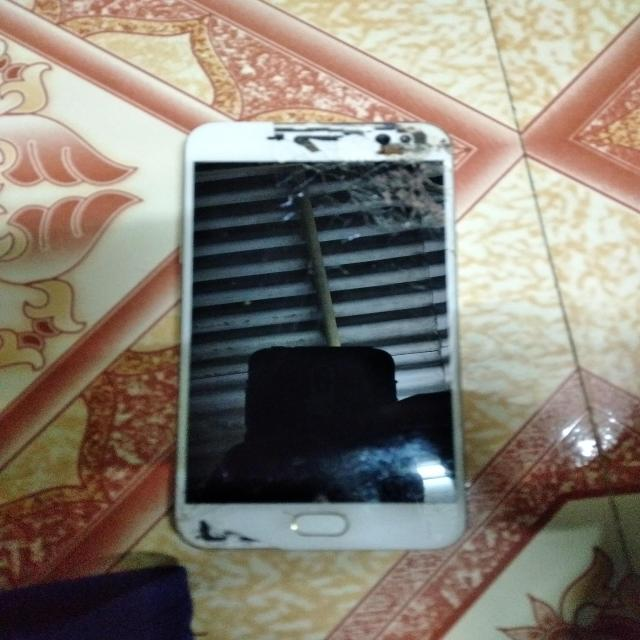mobile: (60, 88, 556, 555)
